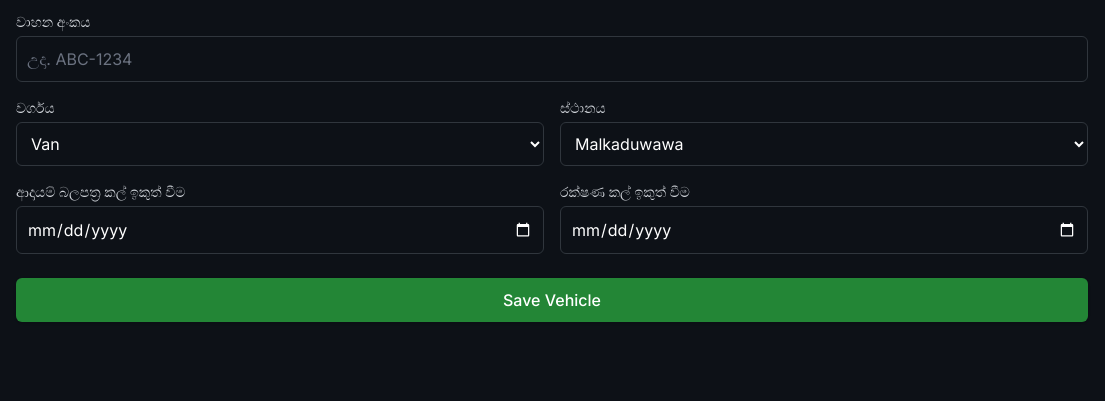
Test: VehicleForm › shows server error message when API returns error
Click the button "Save Vehicle" at (552,300), box [16,278,1088,322]
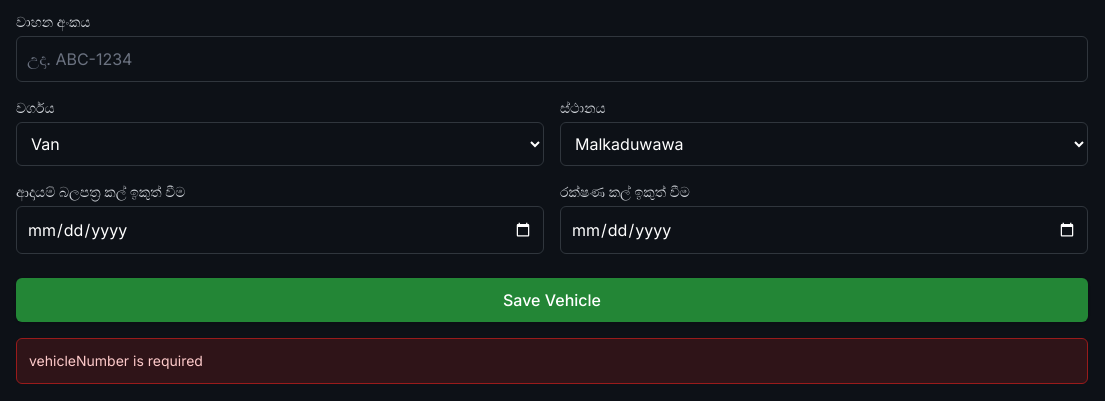
Expected: the text "vehicleNumber is required" is shown, [16,338,1088,384]
